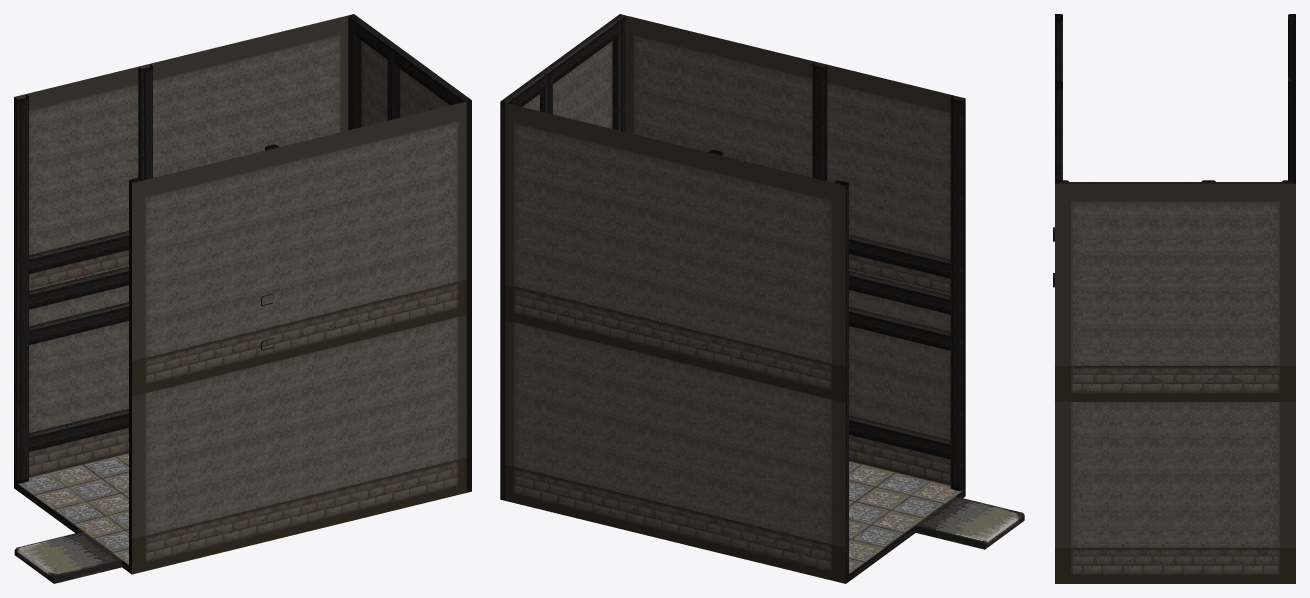
The model's file is EnvBdgMD_City_B_Indoor_L_H_Arrange_A.FBX.
3 views of the same model, side by side, from view 1: azimuth 30°, elevation 25°; view 2: azimuth 150°, elevation 25°; view 3: azimuth 270°, elevation 25° (orthographic). The views are drawn at different scales.
Parts seen in each view (by area): view 1: EnvBdgMD_City_B_Indoor_L_H_Arrange_A; view 2: EnvBdgMD_City_B_Indoor_L_H_Arrange_A; view 3: EnvBdgMD_City_B_Indoor_L_H_Arrange_A.
Boxes of the visible parts, x1,y1,x2,y2 form: EnvBdgMD_City_B_Indoor_L_H_Arrange_A: [14, 14, 471, 583]; EnvBdgMD_City_B_Indoor_L_H_Arrange_A: [500, 14, 1024, 583]; EnvBdgMD_City_B_Indoor_L_H_Arrange_A: [1053, 14, 1295, 583].
Size of the model in its own units: 1200 by 1100 by 605.
